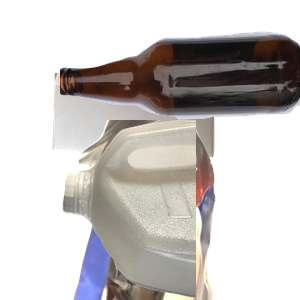glass: (60, 29, 300, 141)
paper: (50, 61, 257, 211)
plastic: (60, 120, 300, 300)
trash: (63, 120, 300, 300)
